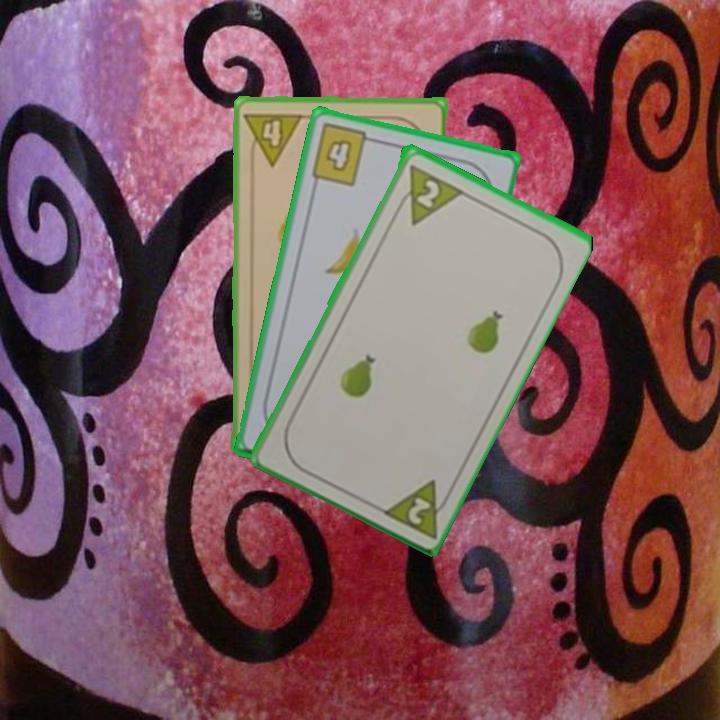2p: (376, 474, 456, 541), (389, 160, 464, 228)
4b: (307, 120, 380, 189)
4p: (241, 108, 306, 169)
